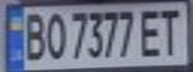3: (84, 8, 106, 60)
7: (66, 8, 87, 60), (118, 7, 139, 58), (103, 7, 121, 58)
B: (18, 9, 48, 62)
E: (136, 6, 166, 57)
O: (42, 9, 69, 61)
T: (157, 4, 187, 56)
